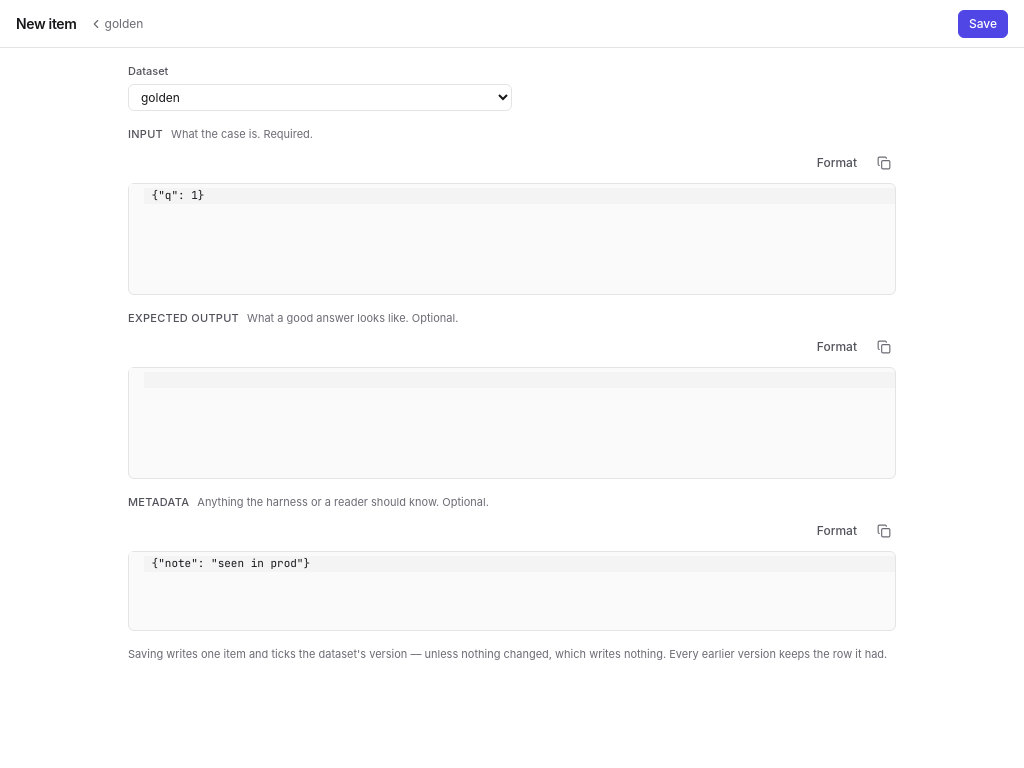
what a save sends and says › posts the parsed panes and reports the version
This screenshot has width=1024, height=768.
Click the button "Save" at {"x": 983, "y": 24}, box [958,10,1008,38]
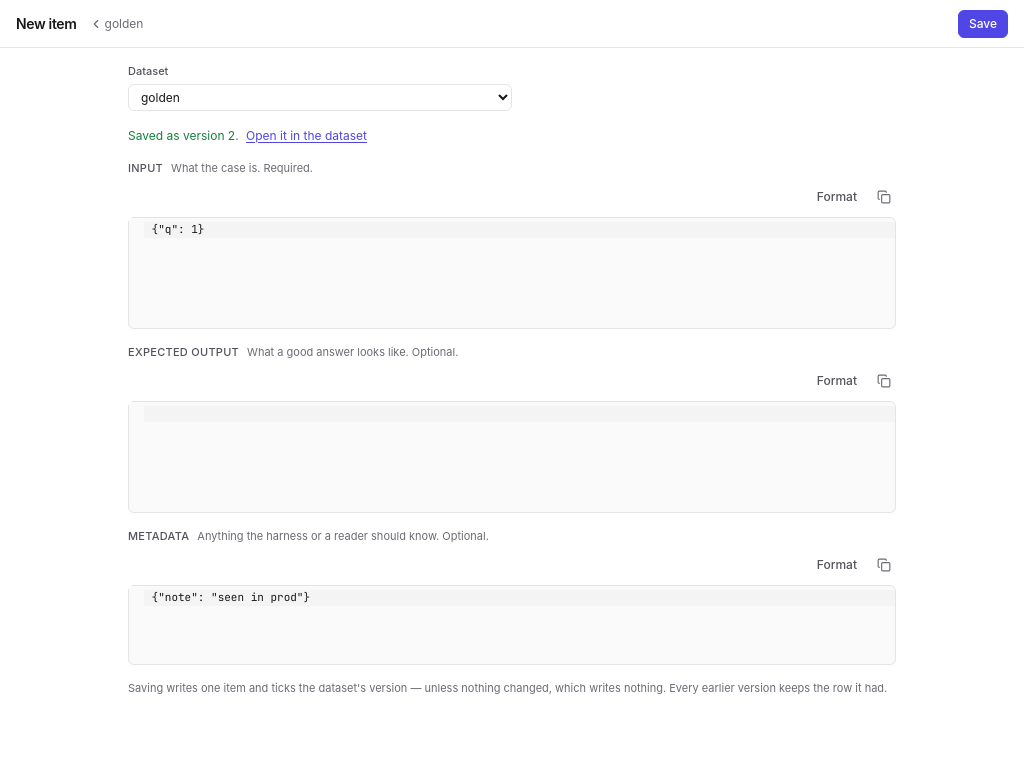
Expected: the text "Saved as version 2." is shown, [128,128,242,143]
